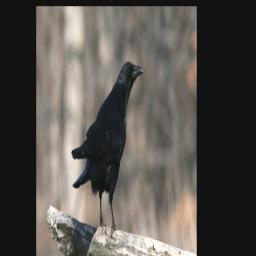Crow: (71, 58, 144, 241)
